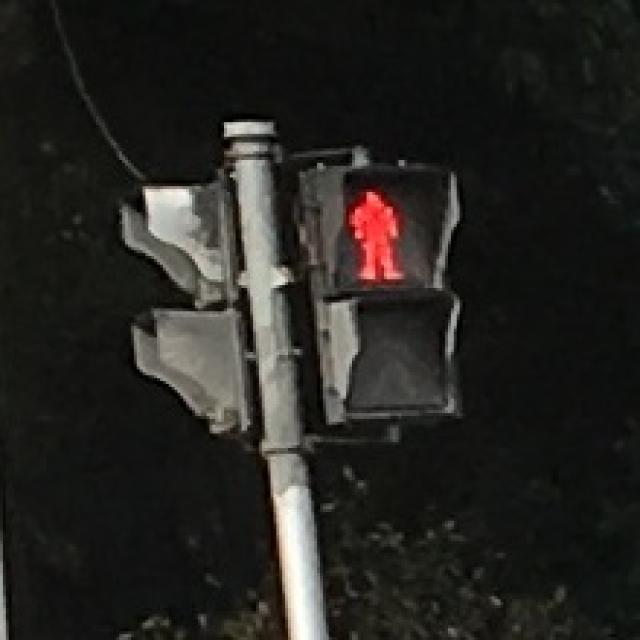red_light: (338, 174, 410, 291)
